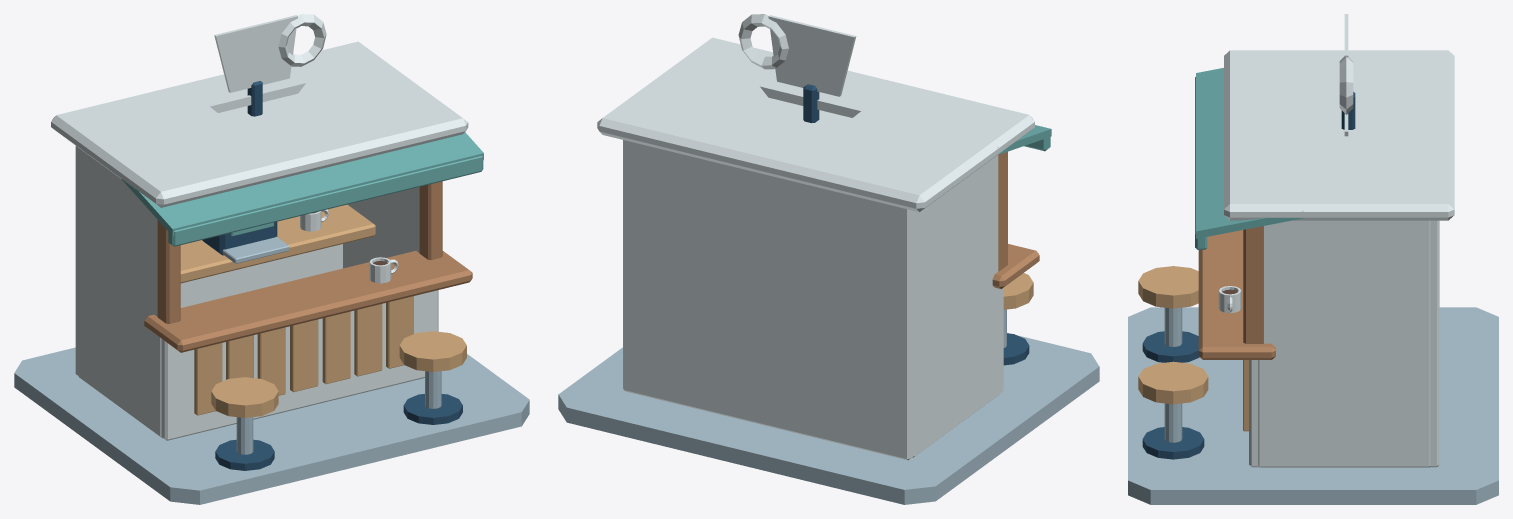
File: campus_coffee_kiosk_v01.glb
3 renders of one model, left to right at view 1: azimuth 30°, elevation 25°; view 2: azimuth 150°, elevation 25°; view 3: azimuth 270°, elevation 25°, orthographic. The views are drawn at different scales.
Parts seen in each view (by area): view 1: campus_coffee_kiosk; view 2: campus_coffee_kiosk; view 3: campus_coffee_kiosk.
Part boxes in pixels (x1,y1,x2,y2): campus_coffee_kiosk: (14, 14, 529, 504); campus_coffee_kiosk: (558, 14, 1099, 504); campus_coffee_kiosk: (1128, 14, 1498, 504).
Bounding box in the file's own units: 4.2 × 4.07 × 3.6.
1 material, 1 textured.
